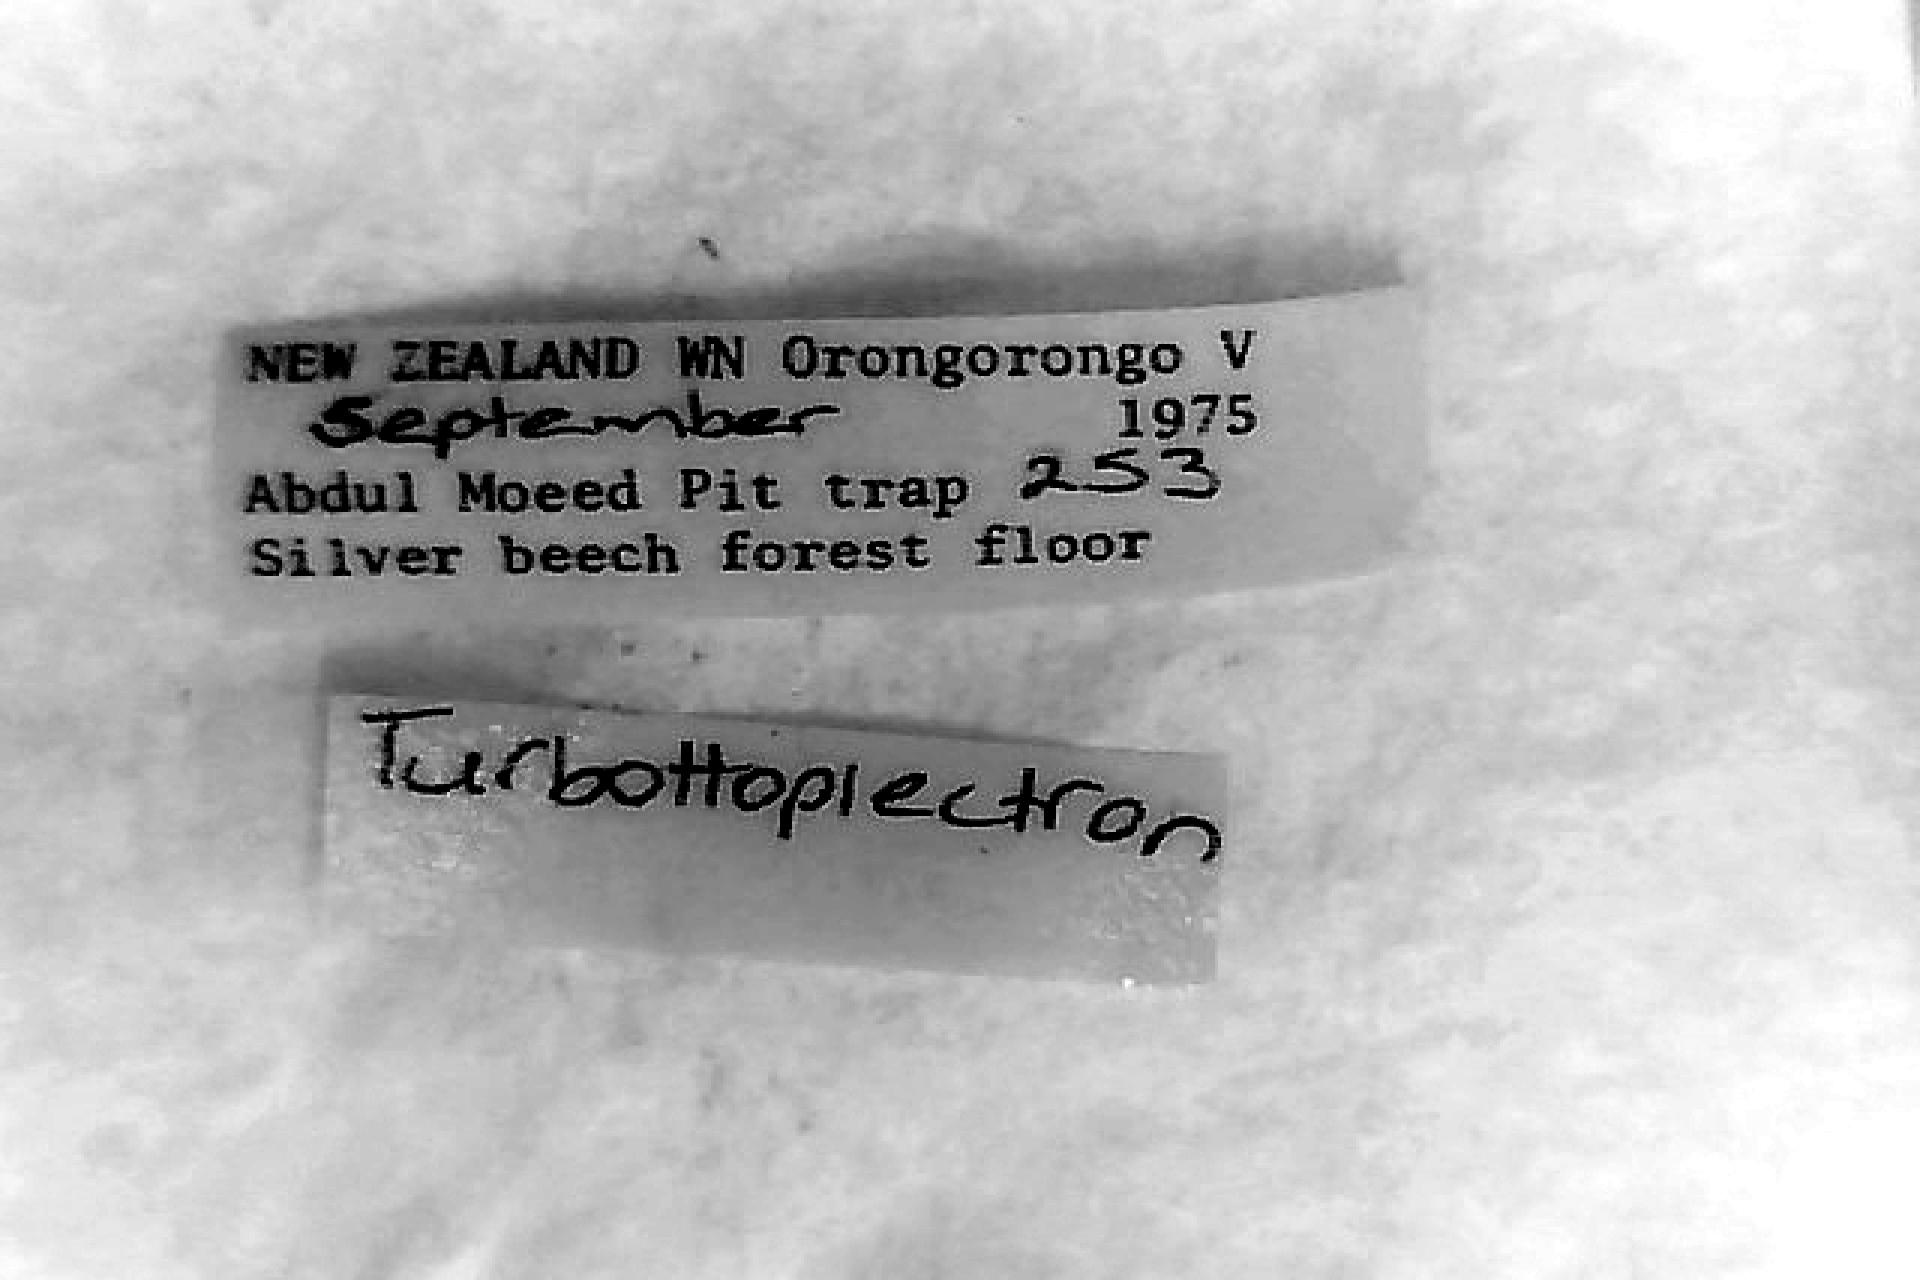hand_label: (322, 702, 1221, 982)
mixed_label: (221, 287, 1421, 613)
